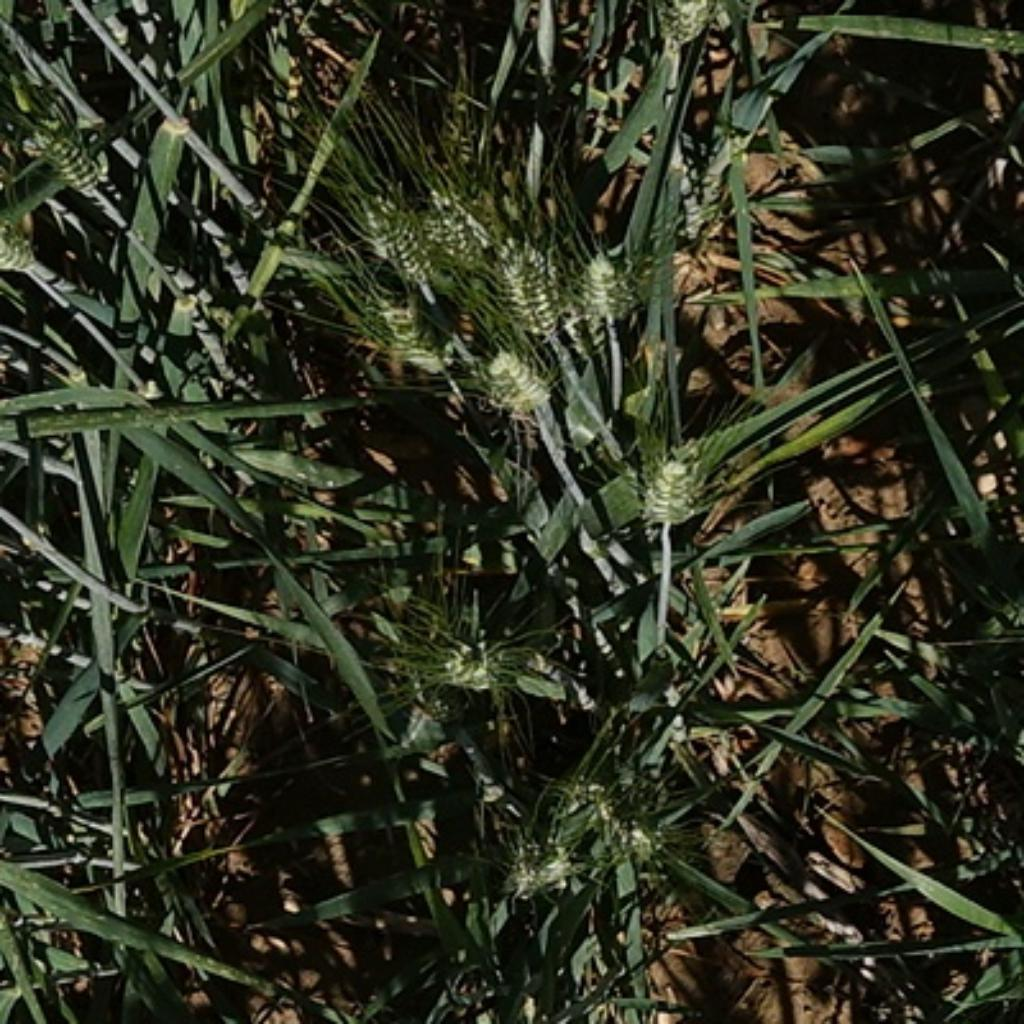0-0: (340, 184, 453, 299), (478, 227, 573, 350), (353, 279, 455, 378), (604, 793, 701, 890), (404, 163, 486, 273), (20, 92, 112, 186), (468, 335, 555, 424), (629, 435, 714, 524), (545, 762, 627, 837), (499, 819, 573, 896), (622, 2, 742, 48), (551, 284, 606, 361), (582, 248, 634, 323), (435, 641, 501, 691), (0, 217, 41, 273)
